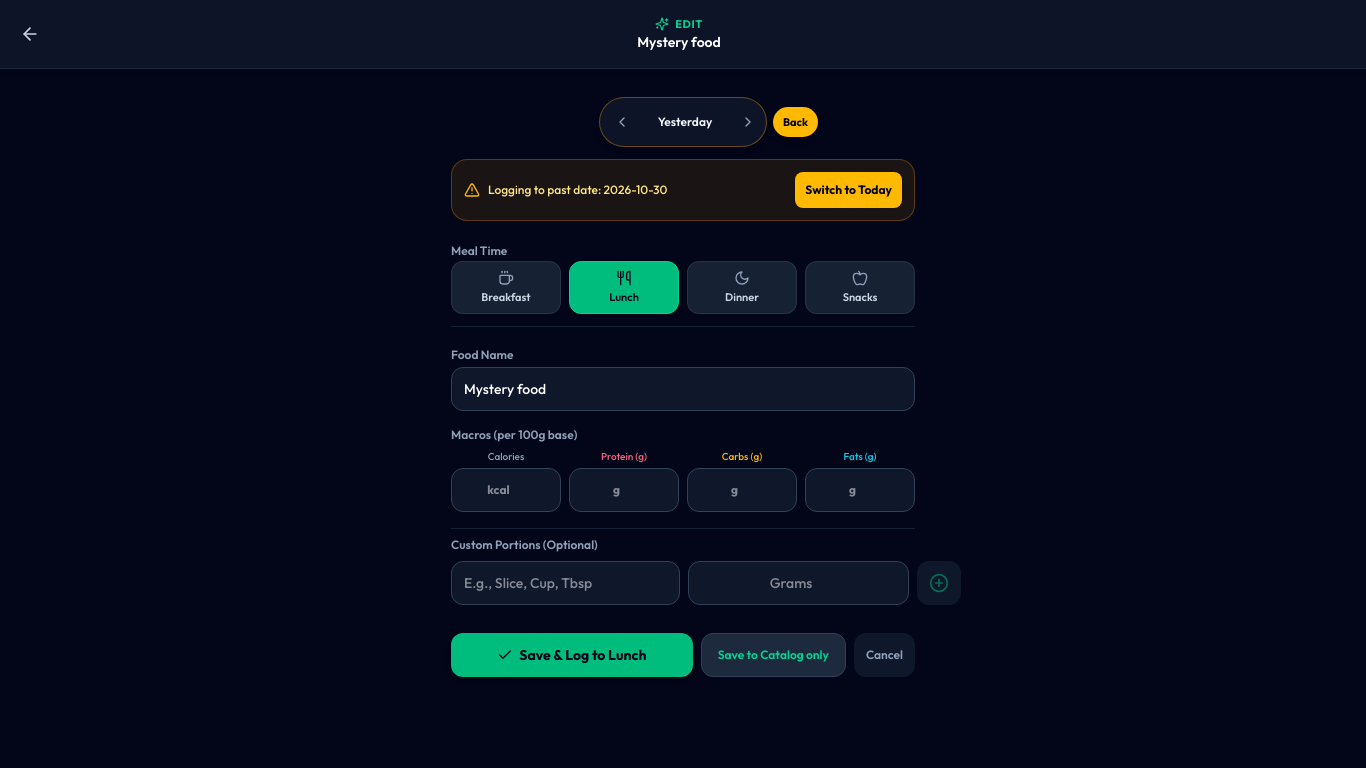
Scenario: IngredientBuilder validations (diary and catalog modes) › blocks Save & Log in diary mode when macro fields are empty
The image size is (1366, 768).
Type "100" into the number field with placeholder "kcal" at {"x": 506, "y": 490}, box [451, 468, 561, 512]
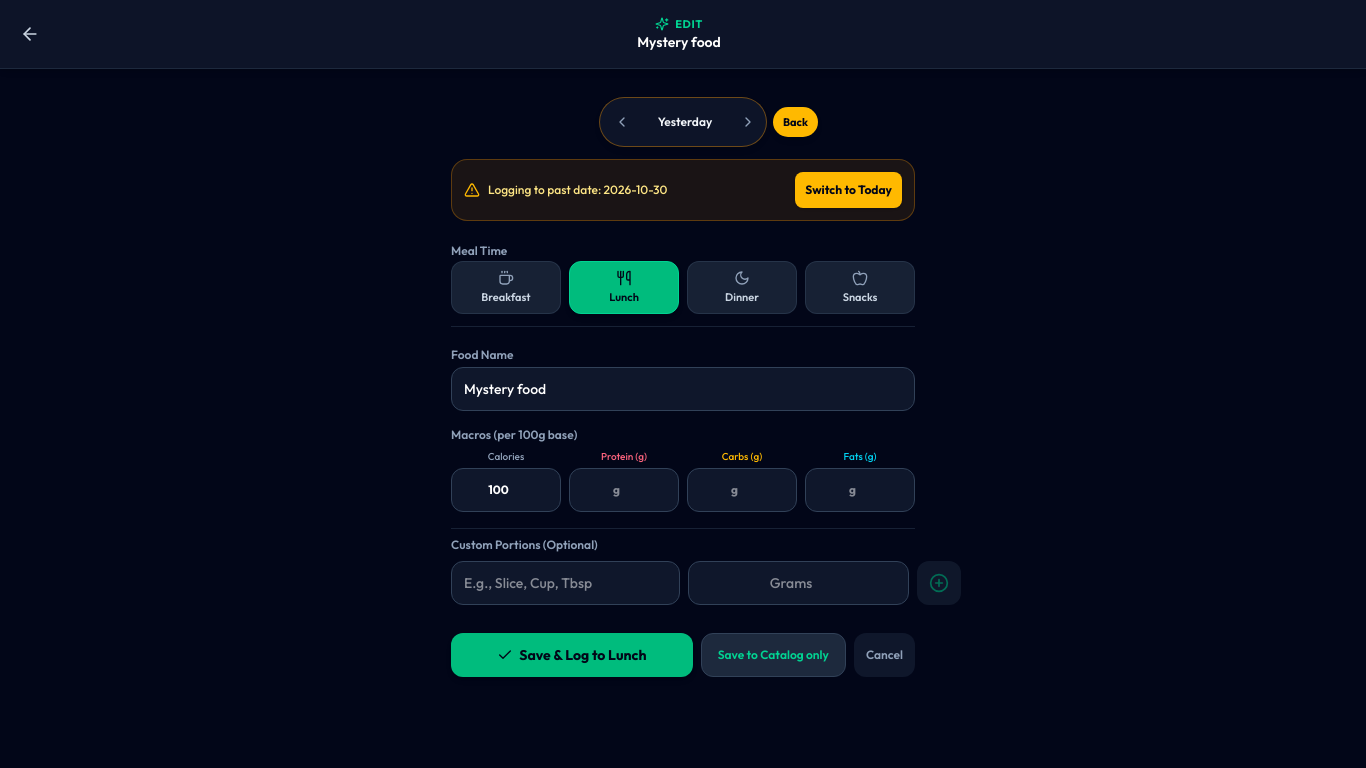
Click the button with test id "btn-save-and-log-ingredient" at {"x": 572, "y": 655}, box [451, 633, 693, 677]
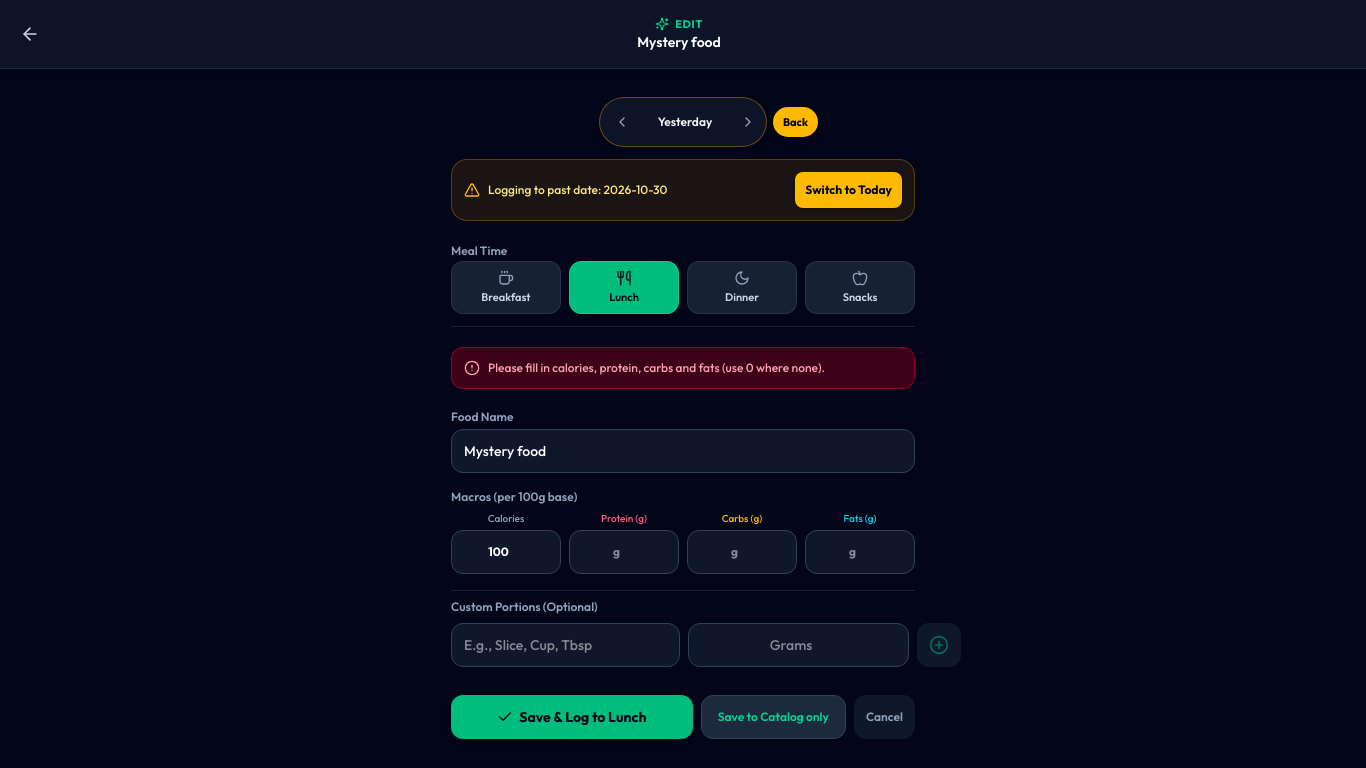
Expected: the text "Please fill in calories, protein, carbs and fats (use 0 where none)." is shown, [488, 360, 825, 376]
